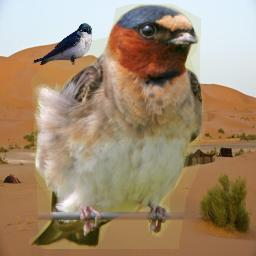Swallow: (29, 4, 209, 249), (32, 23, 92, 65)
